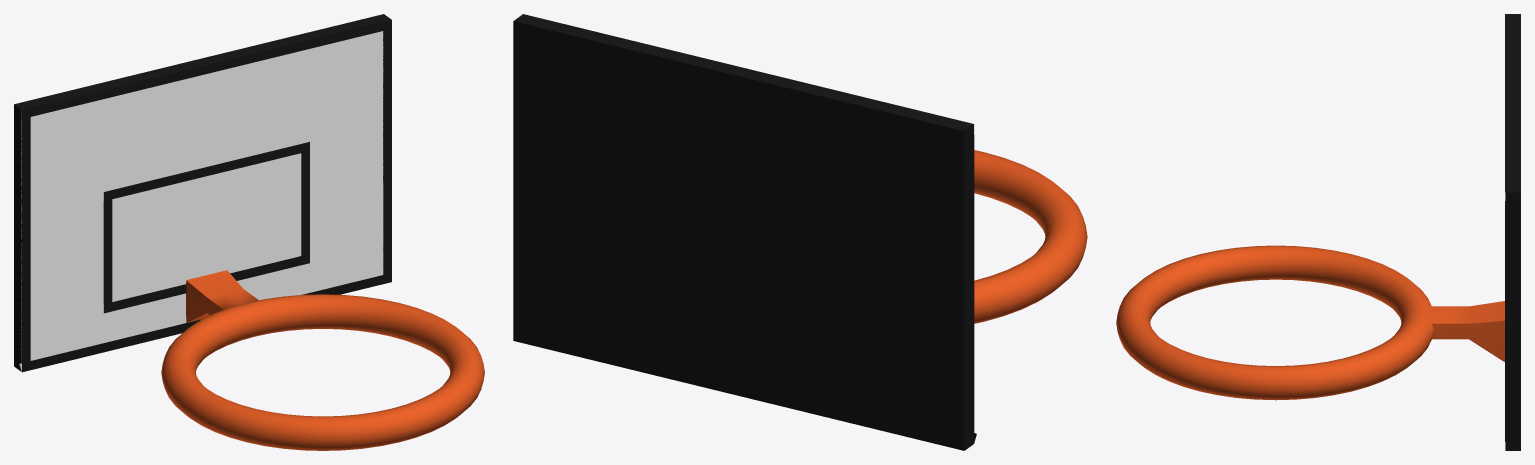
File: BasketballKorb.fbx
3 views of the same model, side by side, from view 1: azimuth 30°, elevation 25°; view 2: azimuth 150°, elevation 25°; view 3: azimuth 270°, elevation 25° (orthographic). The views are drawn at different scales.
Parts seen in each view (by area): view 1: Torus; view 2: Torus; view 3: Torus.
Boxes of the visible parts, bbox=[...] form: Torus: bbox=[14, 14, 484, 450]; Torus: bbox=[513, 14, 1087, 450]; Torus: bbox=[1116, 14, 1520, 450].
Bounding box in the file's own units: 119 × 80.11 × 114.
